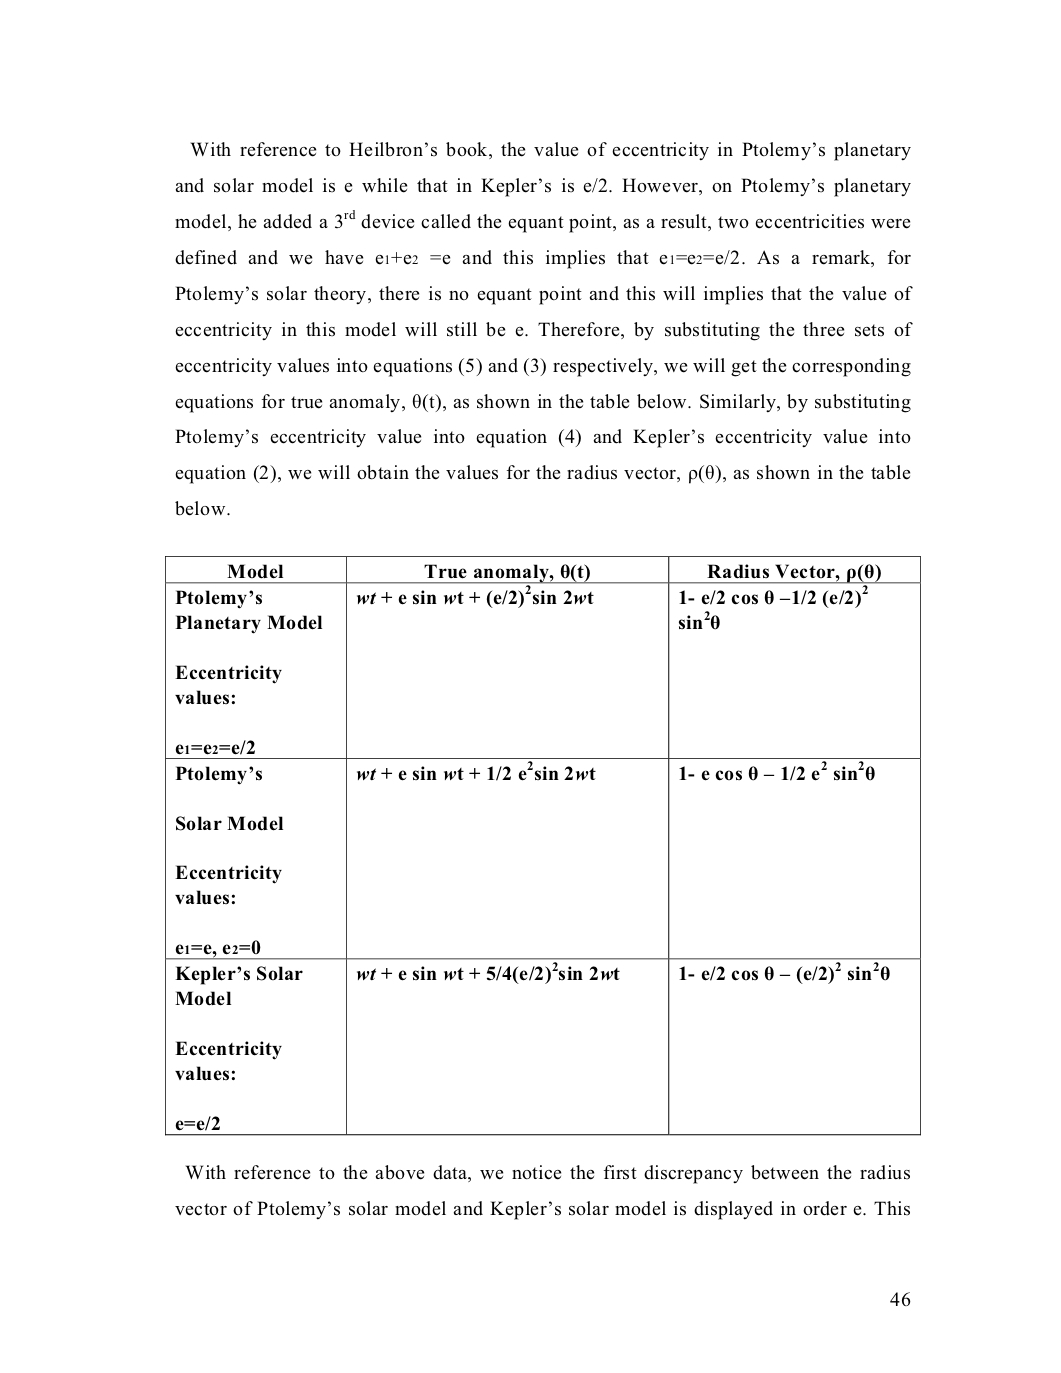Table: (165, 555, 919, 1136)
